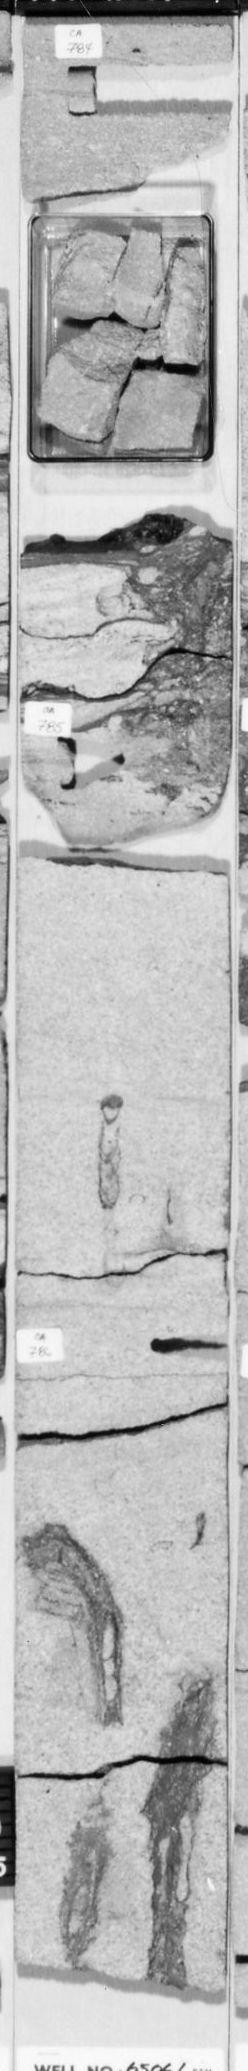hplug: (11, 1300, 224, 1386), (59, 48, 232, 122), (50, 728, 135, 792)
